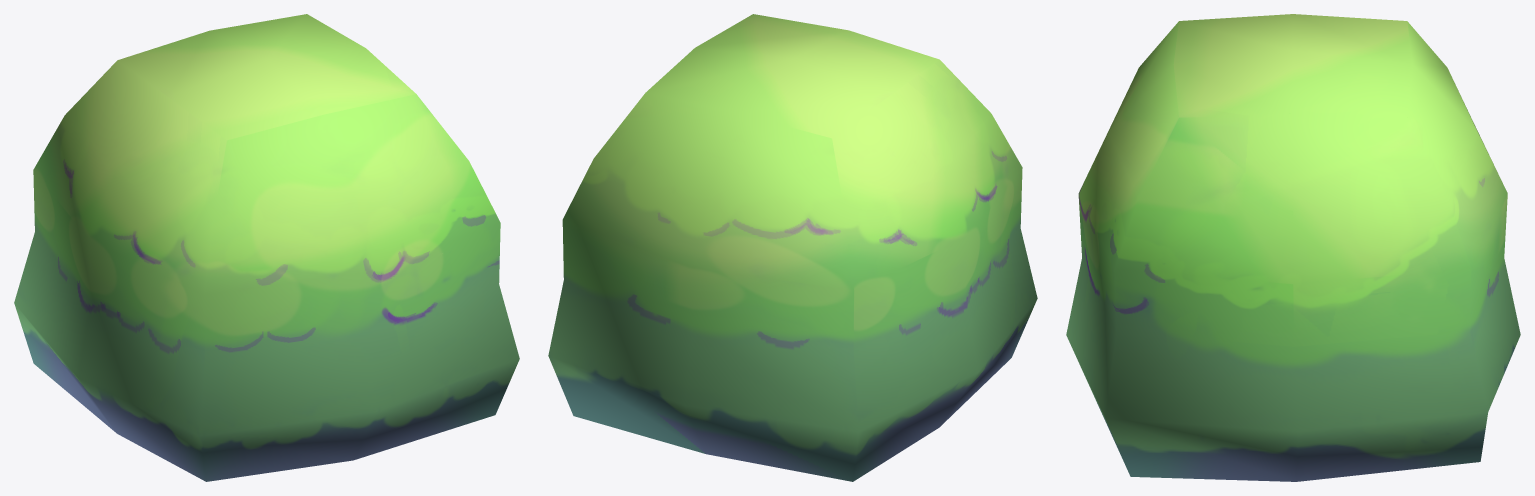
Rendered from Moita.fbx.
3 views of the same model, side by side, from view 1: azimuth 30°, elevation 25°; view 2: azimuth 150°, elevation 25°; view 3: azimuth 270°, elevation 25° (orthographic). The views are drawn at different scales.
Visible parts, largest first — view 1: Cube; view 2: Cube; view 3: Cube.
Part boxes in pixels (x1=…): Cube: x1=14, y1=14, x2=519, y2=481; Cube: x1=548, y1=14, x2=1037, y2=481; Cube: x1=1066, y1=14, x2=1520, y2=481.
Bounding box in the file's own units: 385 × 363 × 381.
1 material, 1 textured.
